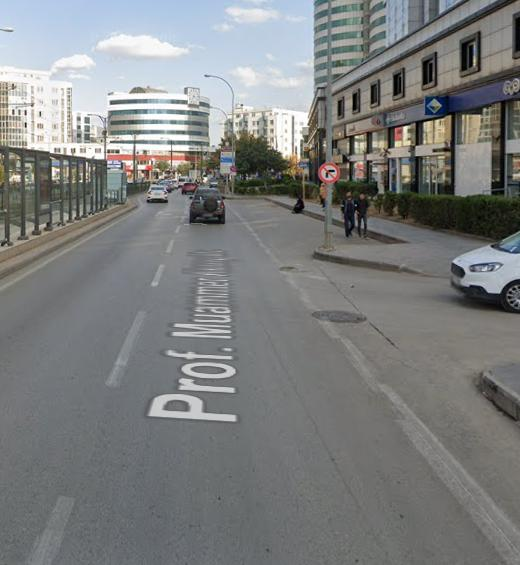rightturnsareforbidden: (318, 163, 339, 183)
